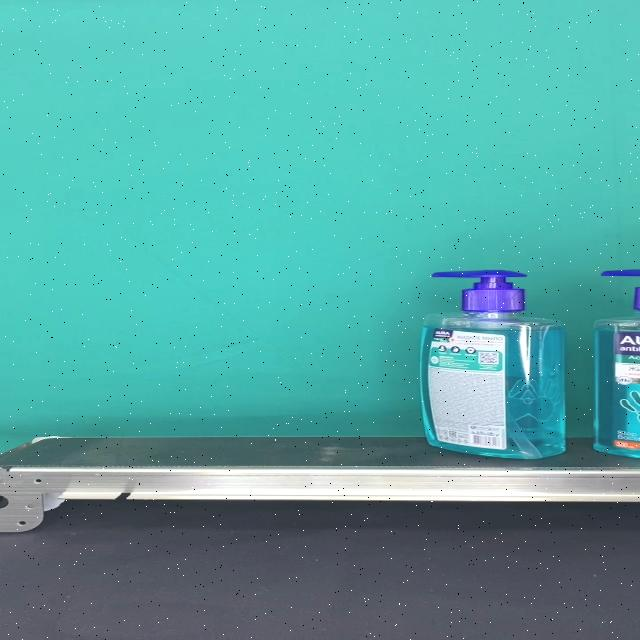Bottle: (420, 270, 566, 459)
Cap: (432, 270, 527, 312)
